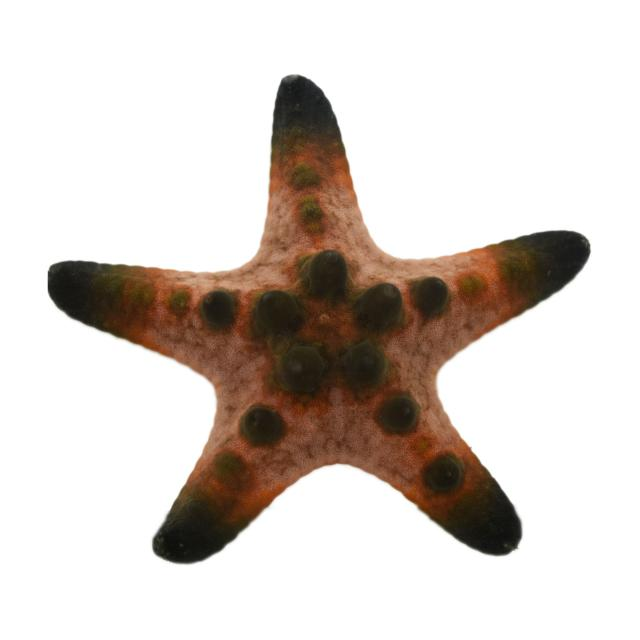starfish: (48, 76, 589, 564)
